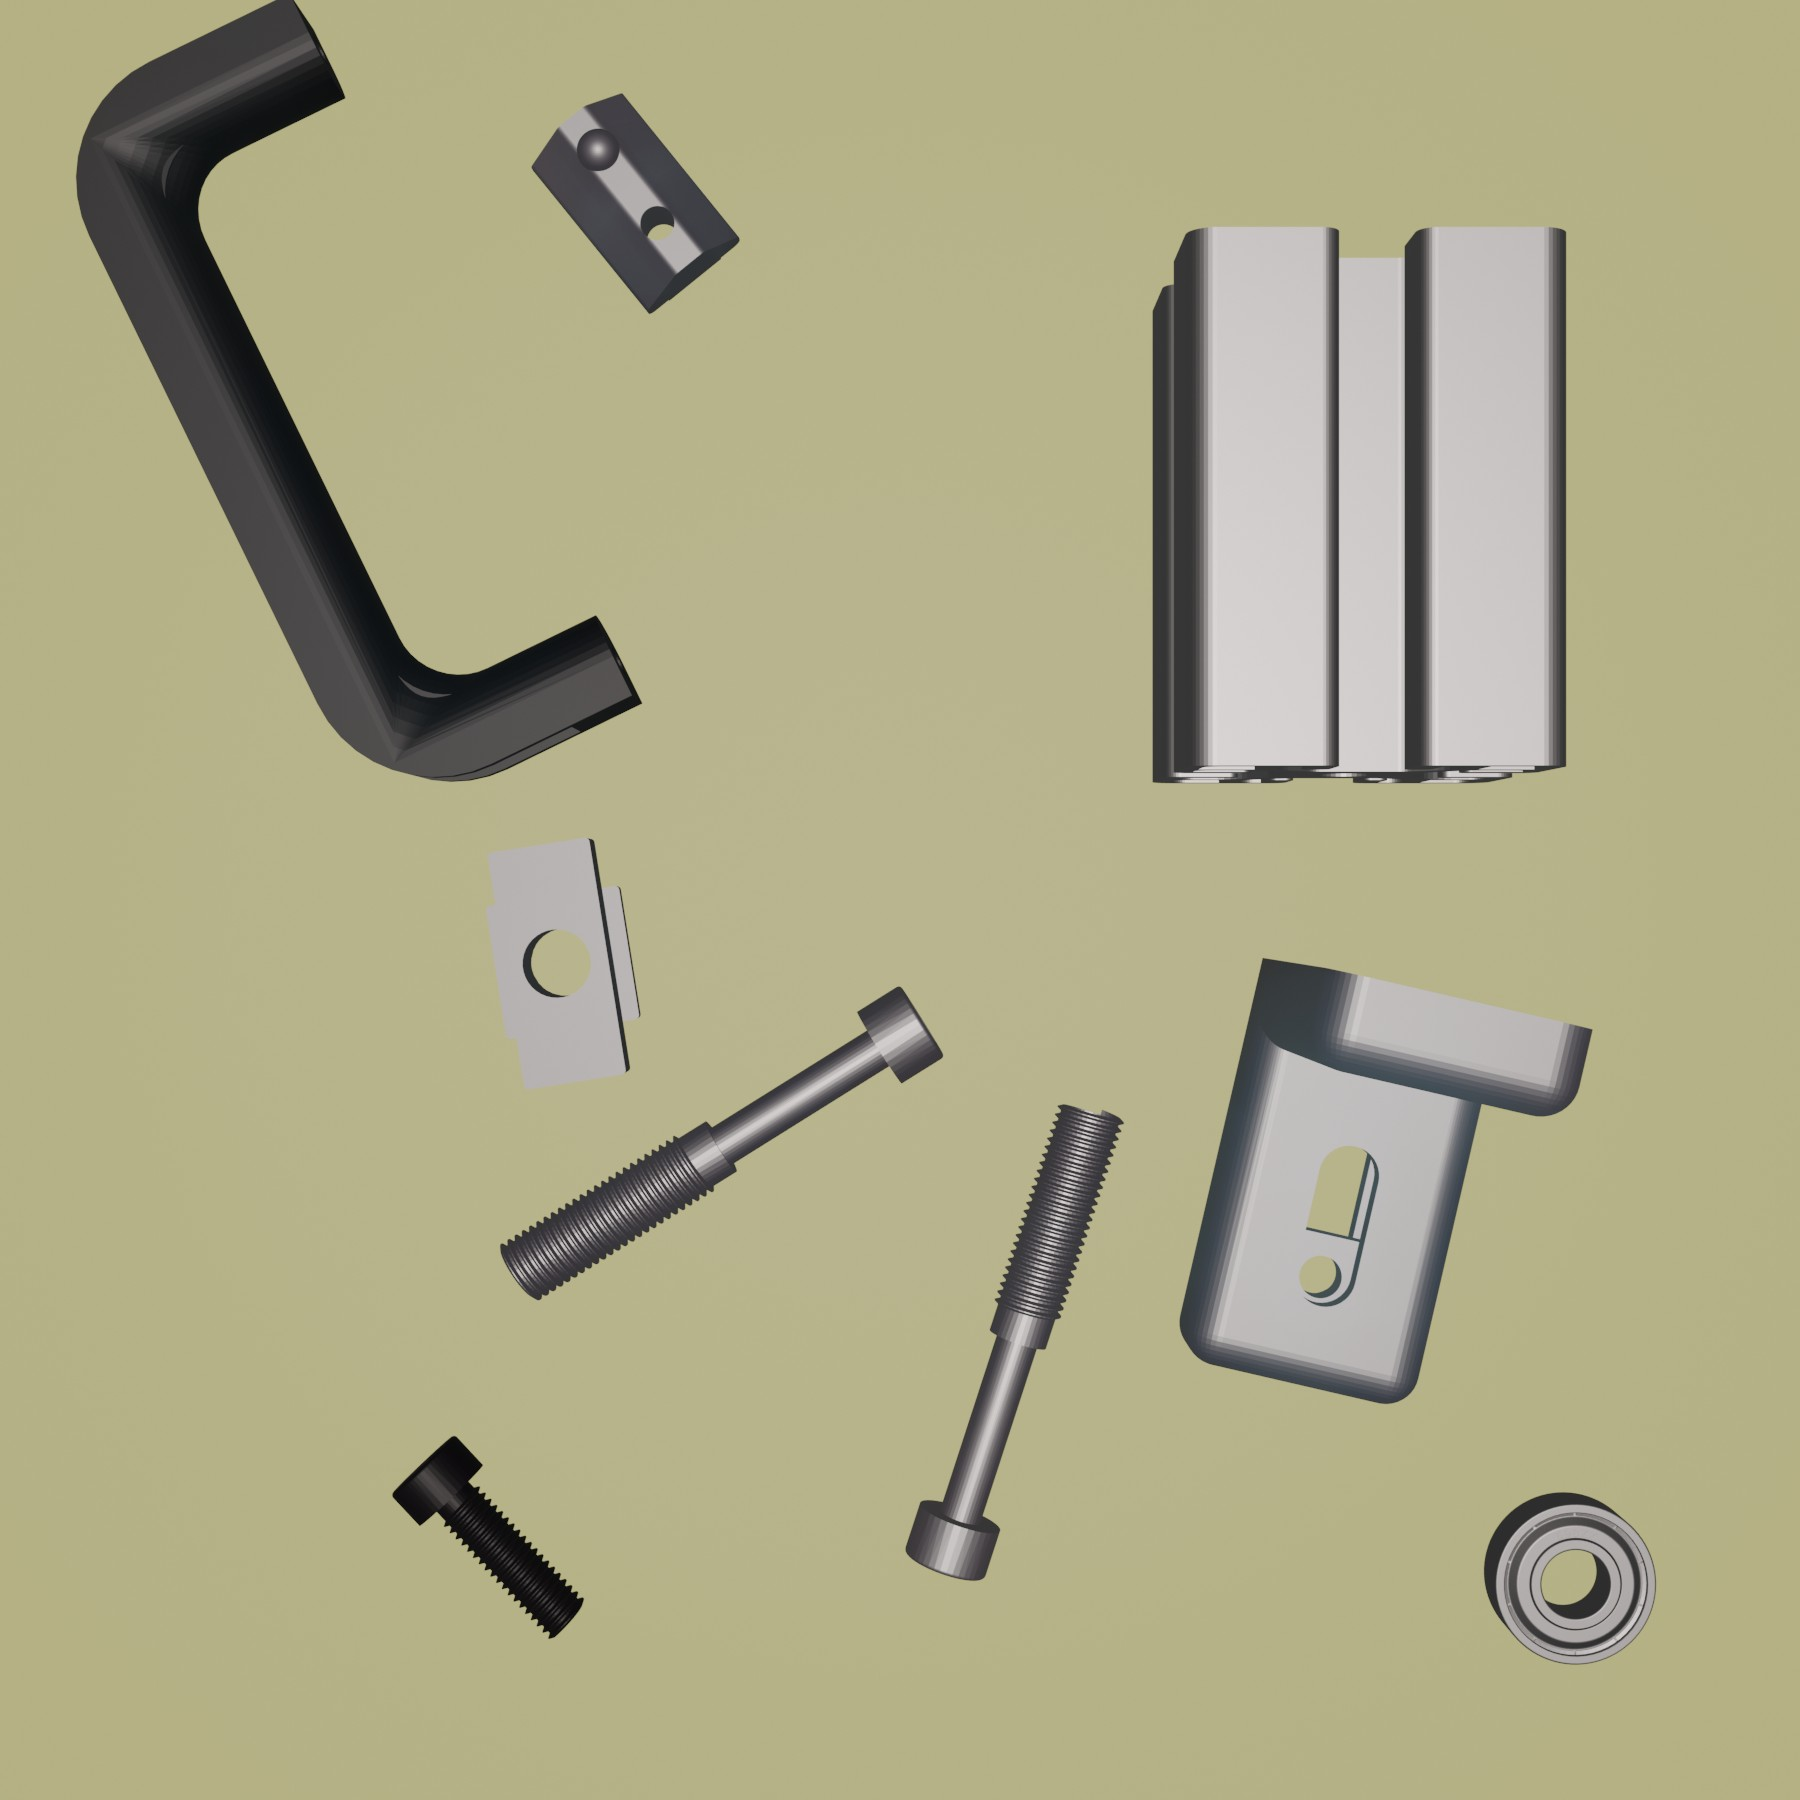Aluminium Extension: (1146, 219, 1573, 788)
Ball Bearing: (1479, 1488, 1658, 1668)
Multiwinkel: (1179, 954, 1597, 1408)
Pull Handle: (69, 2, 646, 785)
Shoulder Socket Head Cap Screw: (495, 981, 948, 1305), (903, 1101, 1127, 1582)
Socket Head Cap Screw: (387, 1431, 588, 1642)
T Nut Square: (475, 832, 648, 1096)
T Spring Nut: (527, 87, 742, 316)
